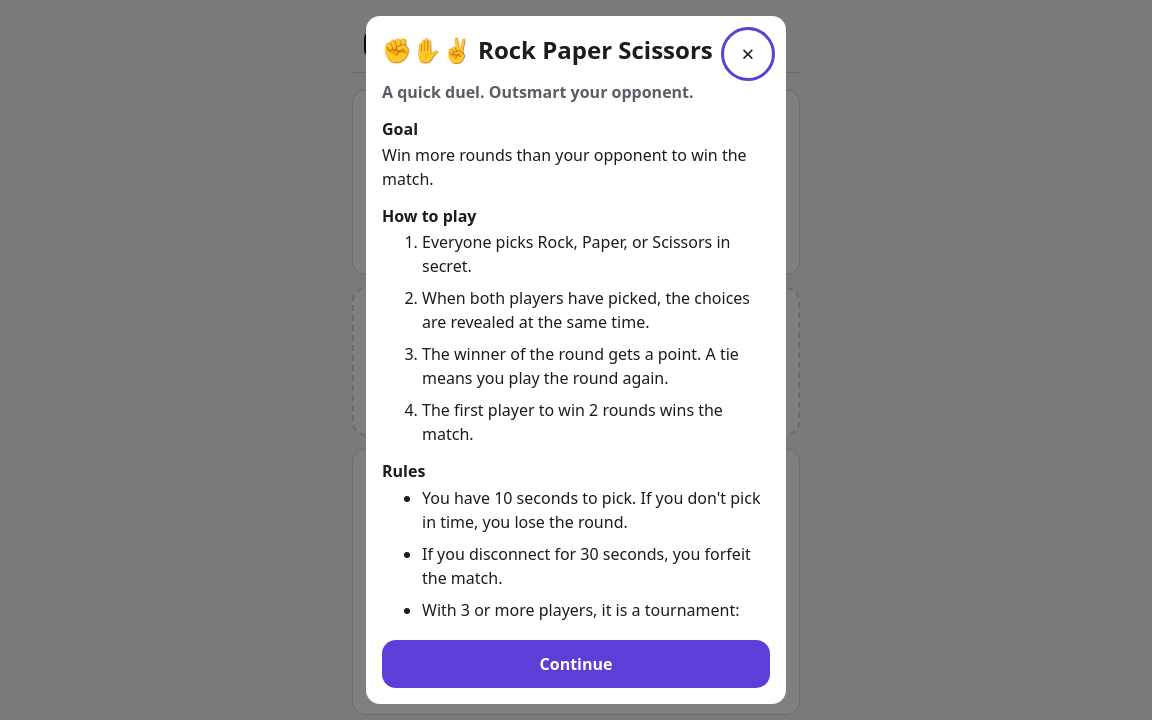
it: How to play modal › supports Close (X), Escape and non-closing backdrop, and sends no message
Check: the text "Tap to copy" is shown, box [538,396,614,418]
Check: the dialog is shown, box [366,16,786,704]
Click the button "×" at (748, 54), box [726,32,770,76]
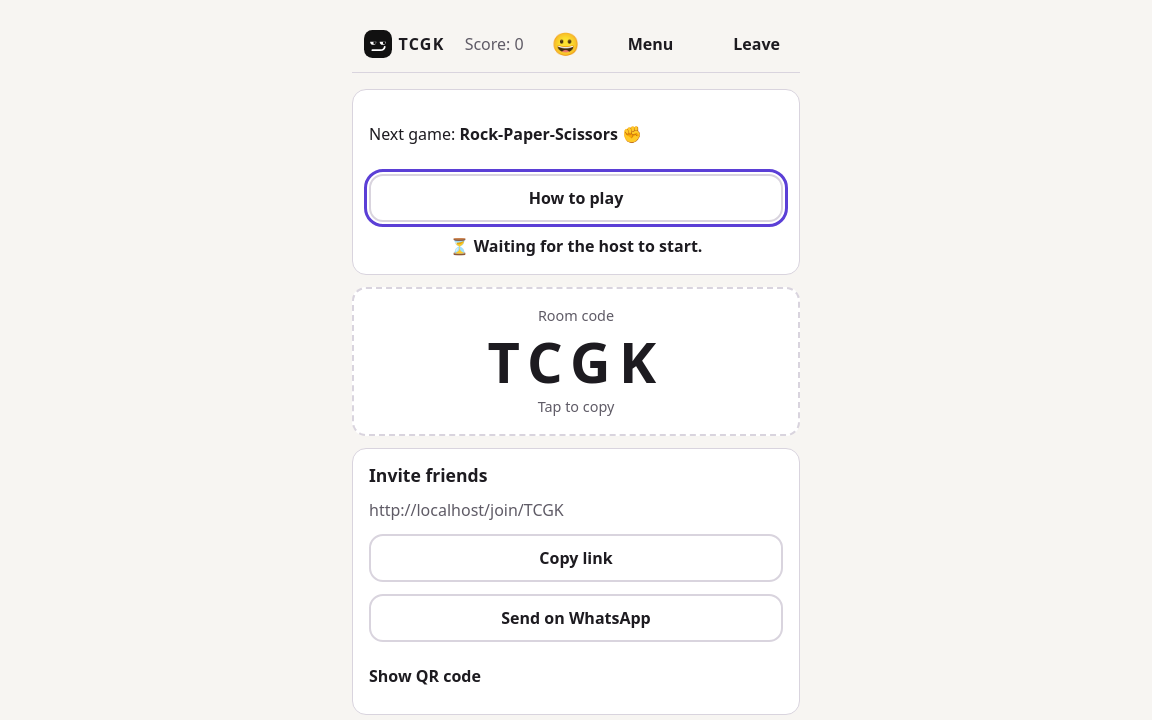
Check: the dialog is gone
Click the button "How to play" at (576, 198), box [369,174,783,222]
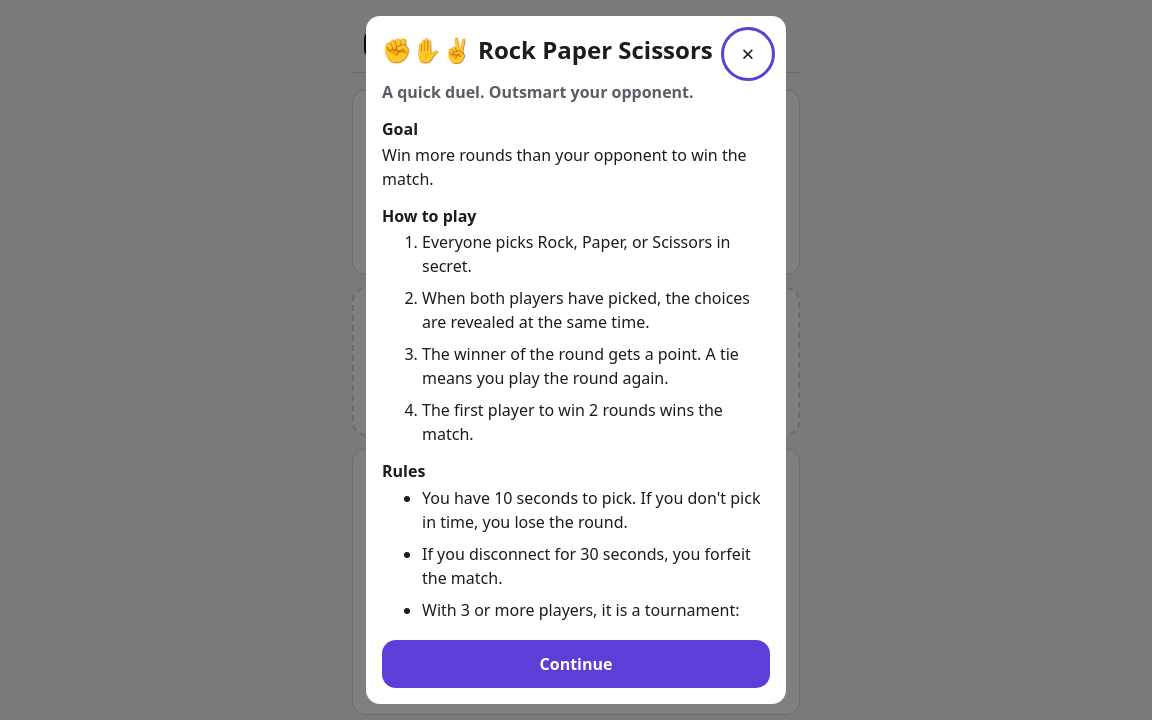
Check: the dialog is shown, box [366,16,786,704]
Check: the element with class "modal__header" is shown, box [382,32,770,76]
Check: the element with class "modal__body" is shown, box [382,76,770,624]
Press Tab
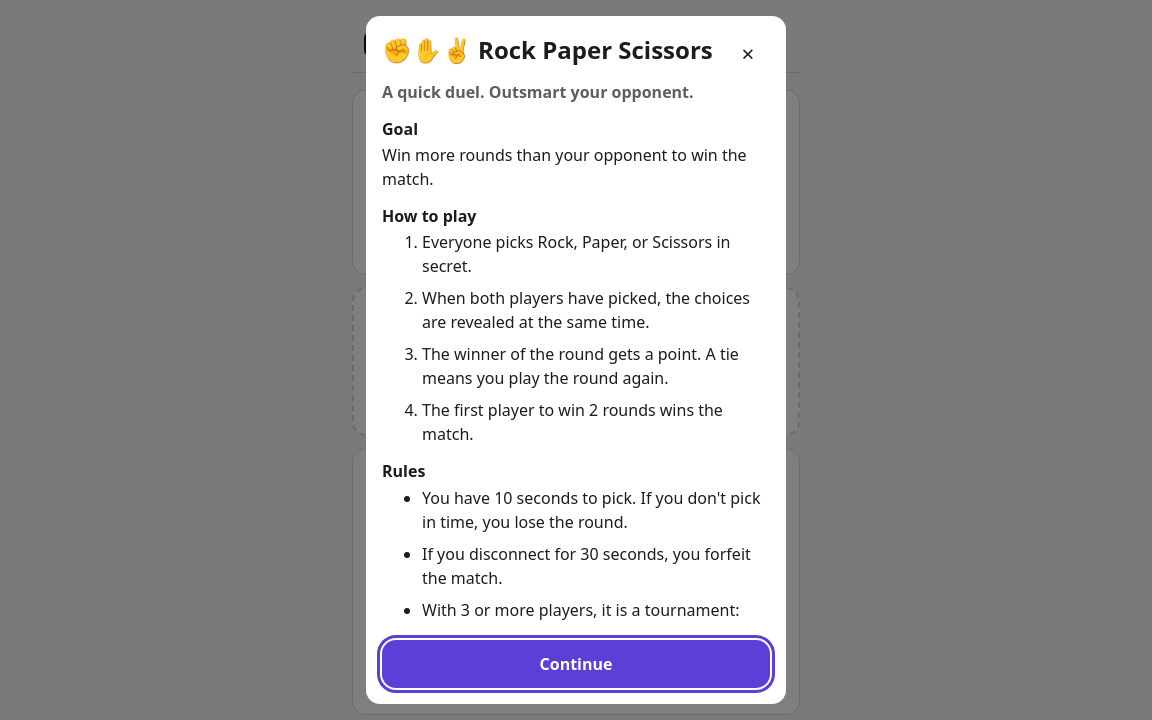
Press Tab
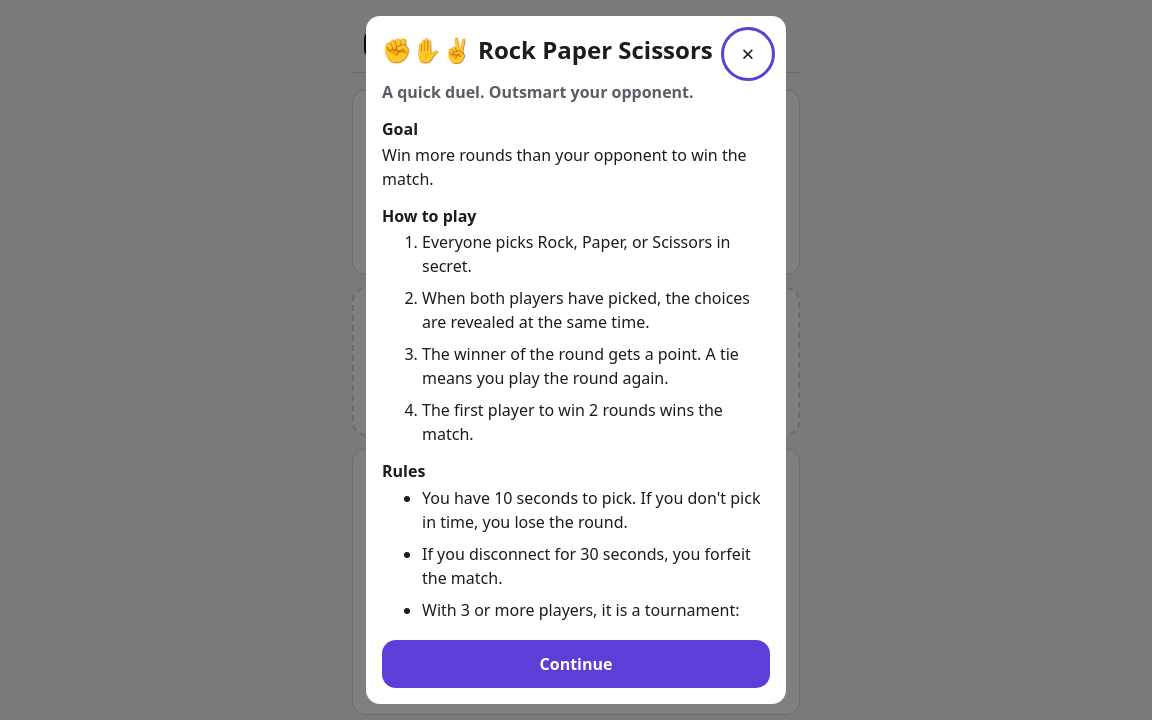
Check: the element with class "modal" is shown
Press the mouse on the element with class "modal" at (576, 360), box [0,0,1151,719]
Check: the dialog is shown, box [366,16,786,704]
Press Escape
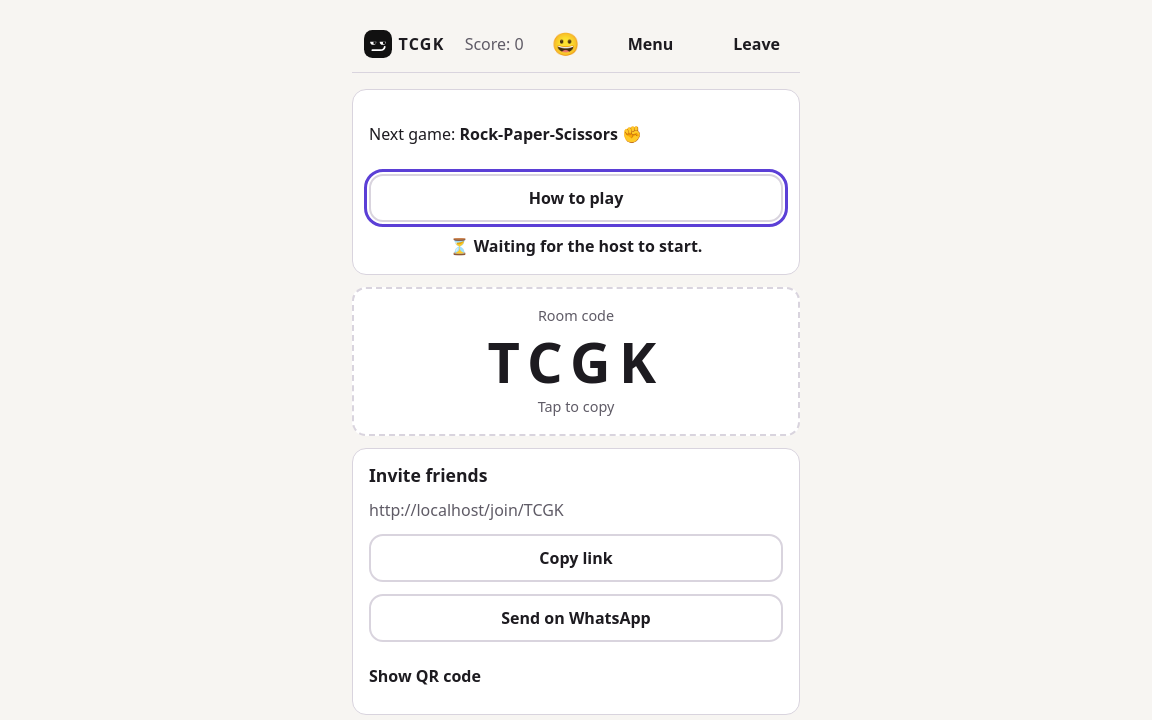
Check: the dialog is gone
